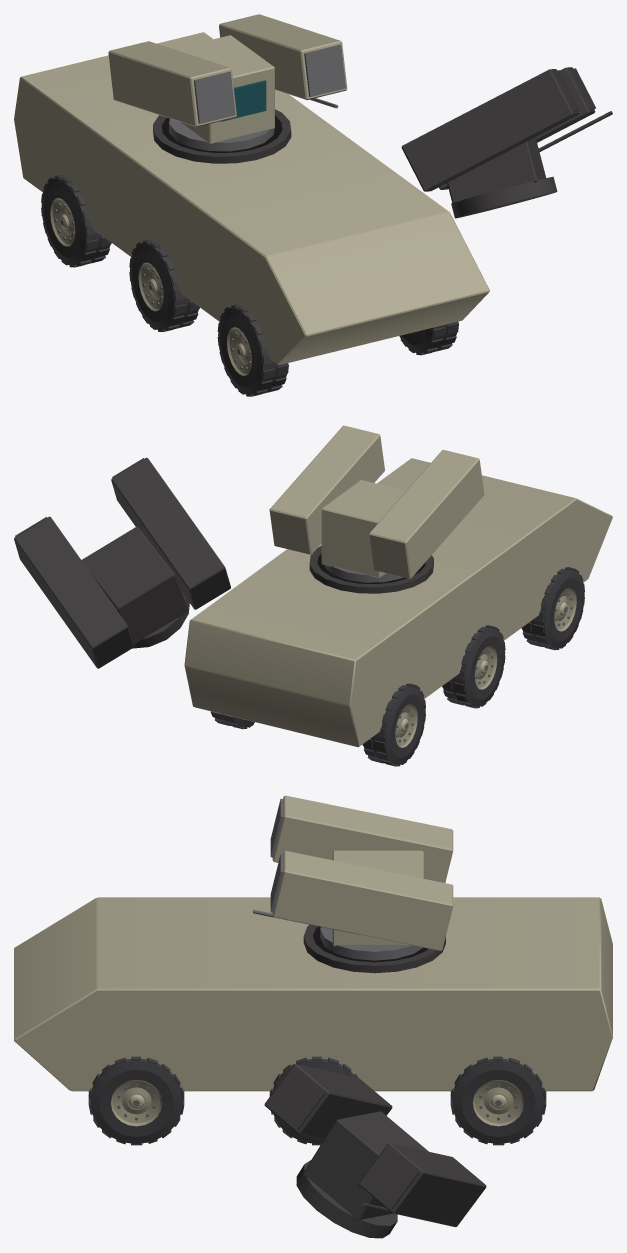
The model's file is aaVehicle__crotale_ng.glb.
3 views of the same model, one above another, from view 1: azimuth 30°, elevation 25°; view 2: azimuth 150°, elevation 25°; view 3: azimuth 270°, elevation 25° (orthographic). The views are drawn at different scales.
Parts seen in each view (by area): view 1: Hull_Mesh, Wreck, Gun_Mesh, Turret_Mesh, Wheel_L2_Mesh, Wheel_L1_Mesh, Wheel_L0_Mesh, Wheel_R2_Mesh; view 2: Hull_Mesh, Wreck, Gun_Mesh, Turret_Mesh, Wheel_L2_Mesh, Wheel_L0_Mesh, Wheel_L1_Mesh; view 3: Hull_Mesh, Wreck, Gun_Mesh, Wheel_R0_Mesh, Wheel_R2_Mesh, Turret_Mesh, Wheel_R1_Mesh.
Boxes of the visible parts, box(x1,y1,x2,y2) form: Hull_Mesh: box(14, 32, 489, 364); Wreck: box(43, 67, 612, 390); Gun_Mesh: box(108, 14, 347, 126); Turret_Mesh: box(169, 35, 274, 151); Wheel_L2_Mesh: box(217, 304, 288, 396); Wheel_L1_Mesh: box(129, 240, 199, 331); Wheel_L0_Mesh: box(41, 175, 111, 267); Wheel_R2_Mesh: box(399, 321, 458, 355); Hull_Mesh: box(184, 458, 612, 747); Wreck: box(14, 457, 565, 764); Gun_Mesh: box(269, 425, 484, 578); Turret_Mesh: box(321, 480, 405, 582); Wheel_L2_Mesh: box(521, 567, 584, 650); Wheel_L0_Mesh: box(362, 683, 425, 766); Wheel_L1_Mesh: box(442, 625, 505, 708); Hull_Mesh: box(14, 897, 612, 1091); Wreck: box(117, 924, 532, 1238); Gun_Mesh: box(253, 795, 453, 950); Wheel_R0_Mesh: box(450, 1056, 546, 1145); Wheel_R2_Mesh: box(88, 1056, 184, 1145); Turret_Mesh: box(320, 850, 423, 960); Wheel_R1_Mesh: box(269, 1056, 358, 1145).
Size of what is drawn, in the model's own units: 6.5 by 3.3 by 6.78.
